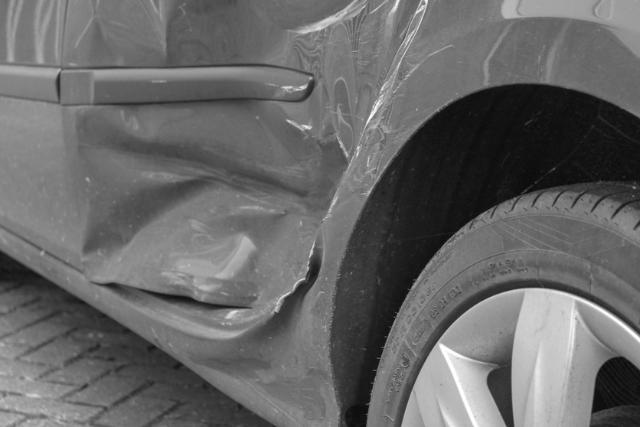Door: (67, 7, 385, 358)
